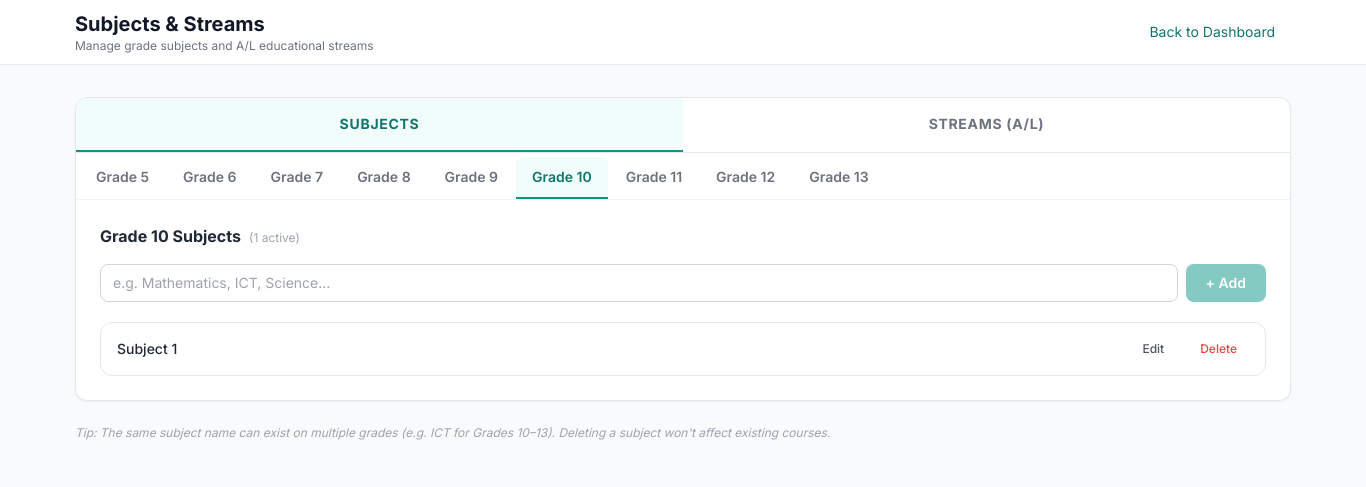
Test: Subjects & streams › subjects tab › switches grade
Expected: the text "Subject 1" is shown, 117,340 -> 177,357
Click the button "Grade 12" at (746, 178), box 700,157 -> 791,199
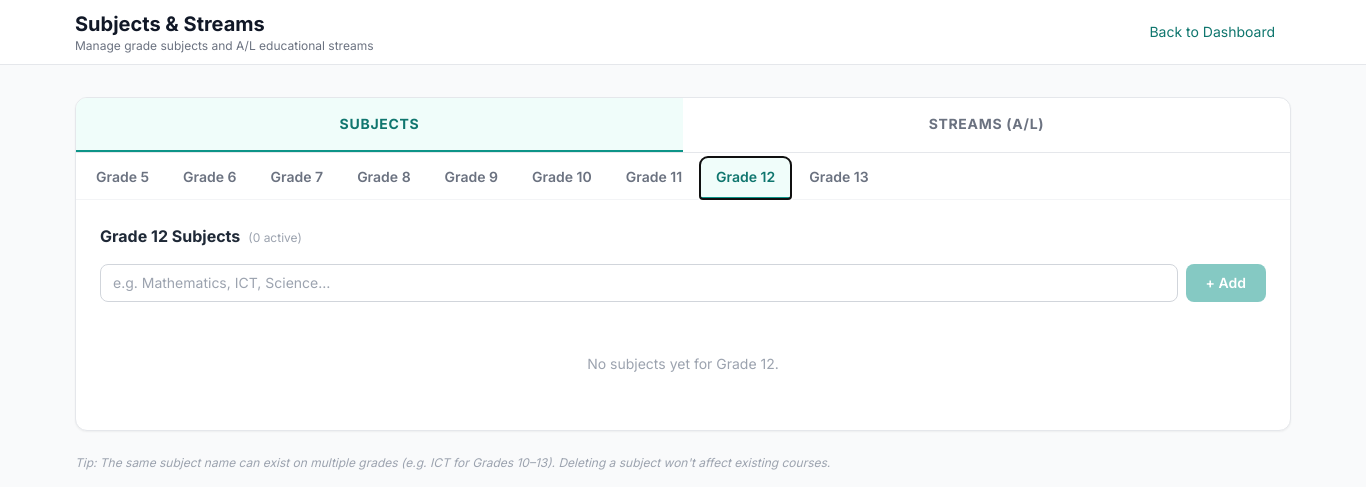
Expected: the text "No subjects yet for Grade 12." is shown, 587,355 -> 779,372
